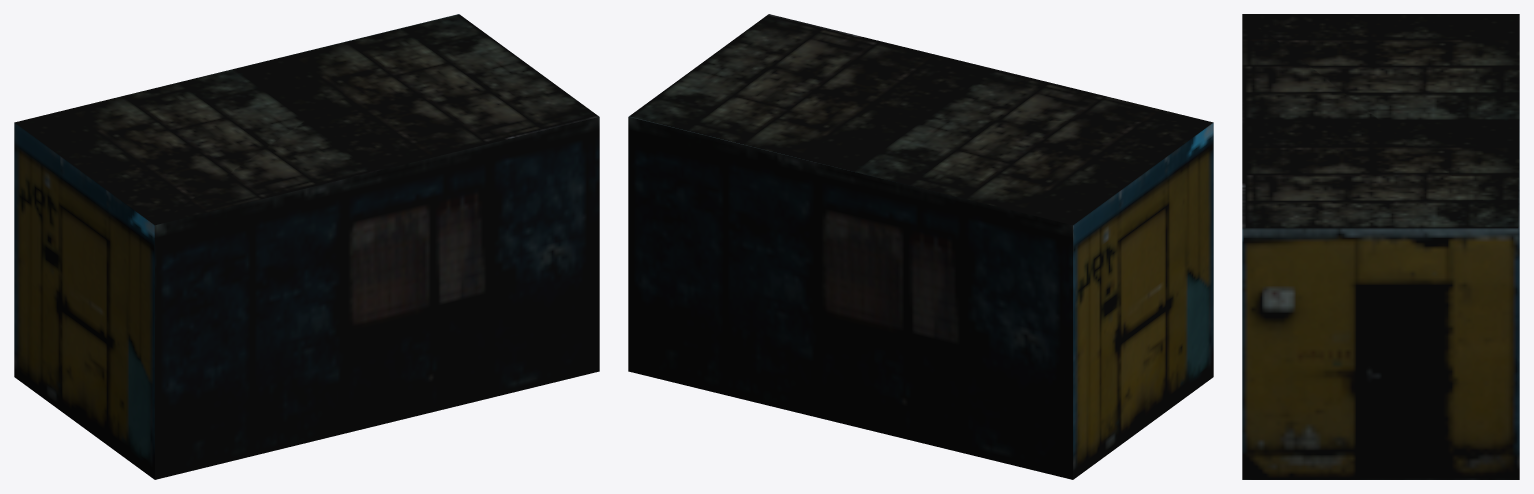
File: shed.obj
3 views of the same model, side by side, from view 1: azimuth 30°, elevation 25°; view 2: azimuth 150°, elevation 25°; view 3: azimuth 270°, elevation 25° (orthographic).
Visible parts, largest first — view 1: Cube_Cube.001; view 2: Cube_Cube.001; view 3: Cube_Cube.001.
Boxes of the visible parts, x1=… form: Cube_Cube.001: x1=14, y1=14, x2=599, y2=479; Cube_Cube.001: x1=628, y1=14, x2=1213, y2=479; Cube_Cube.001: x1=1242, y1=14, x2=1519, y2=479.
Size of the model in its own units: 26.3 by 14.39 by 14.39.
Materials: 1 (1 with a texture image).
